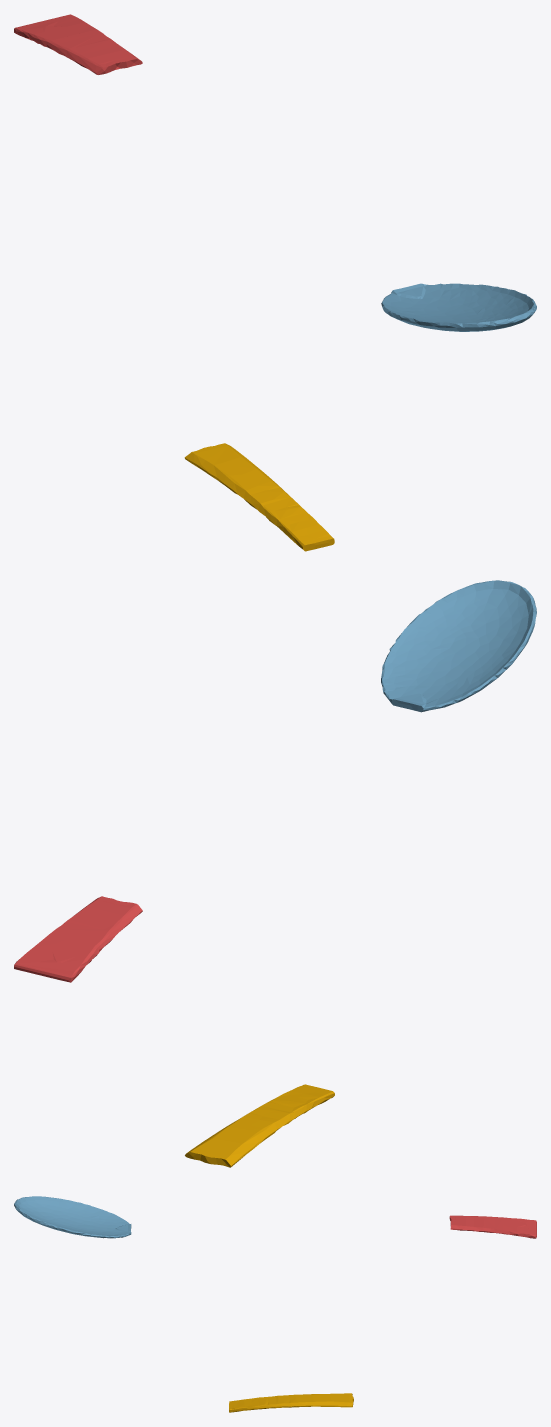
File: mode_2_3pcs_transformed.glb
3 views of the same model, one above another, from view 1: azimuth 30°, elevation 25°; view 2: azimuth 150°, elevation 25°; view 3: azimuth 270°, elevation 25° (orthographic). The views are drawn at different scales.
Parts seen in each view (by area): view 1: piece_2.obj, piece_0.obj, piece_1.obj; view 2: piece_2.obj, piece_1.obj, piece_0.obj; view 3: piece_2.obj, piece_0.obj, piece_1.obj.
Part boxes in pixels (x1,y1,x2,y2): piece_2.obj: [381, 283, 536, 331]; piece_0.obj: [184, 443, 334, 551]; piece_1.obj: [14, 14, 142, 74]; piece_2.obj: [381, 580, 536, 712]; piece_1.obj: [14, 896, 142, 982]; piece_0.obj: [185, 1084, 334, 1167]; piece_2.obj: [14, 1196, 131, 1238]; piece_0.obj: [229, 1393, 353, 1412]; piece_1.obj: [449, 1215, 536, 1238].
Size of the model in its own units: 0.2204 by 0.6951 by 1.6.
